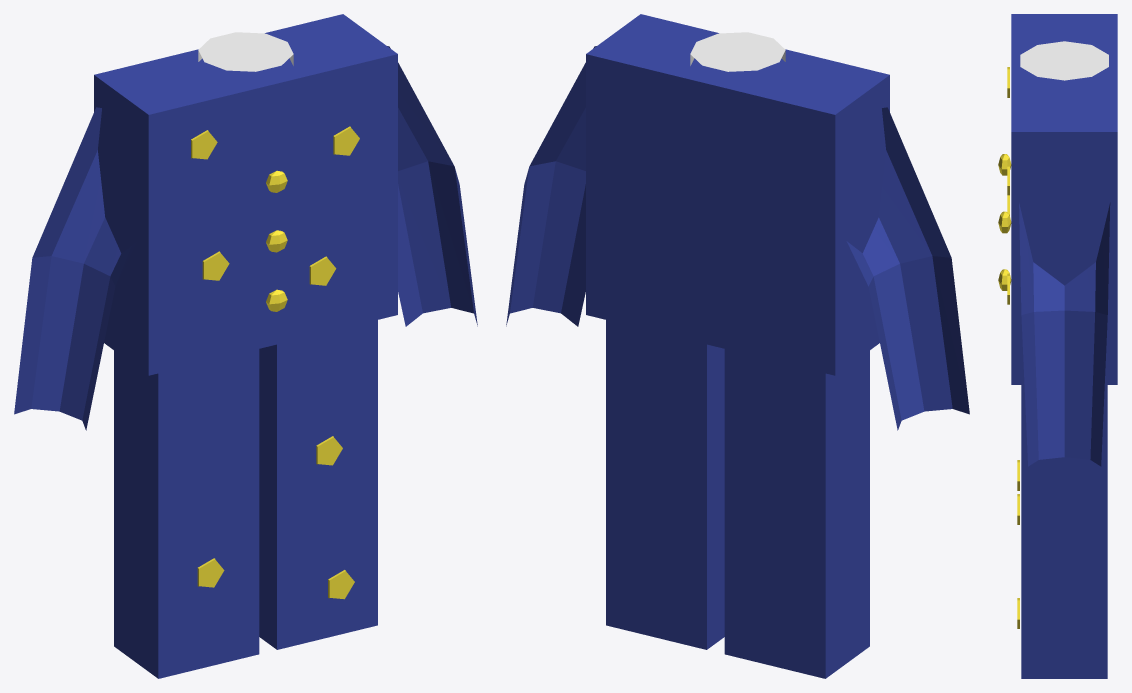
File: pyjamas.glb
3 views of the same model, side by side, from view 1: azimuth 30°, elevation 25°; view 2: azimuth 150°, elevation 25°; view 3: azimuth 270°, elevation 25° (orthographic). The views are drawn at different scales.
Parts seen in each view (by area): view 1: pyjamas; view 2: pyjamas; view 3: pyjamas.
Boxes of the visible parts, <box> form: pyjamas: <box>14,14,477,678</box>; pyjamas: <box>506,14,969,678</box>; pyjamas: <box>998,14,1117,678</box>.
Bounding box in the file's own units: 0.7684 × 0.94 × 0.1799.
